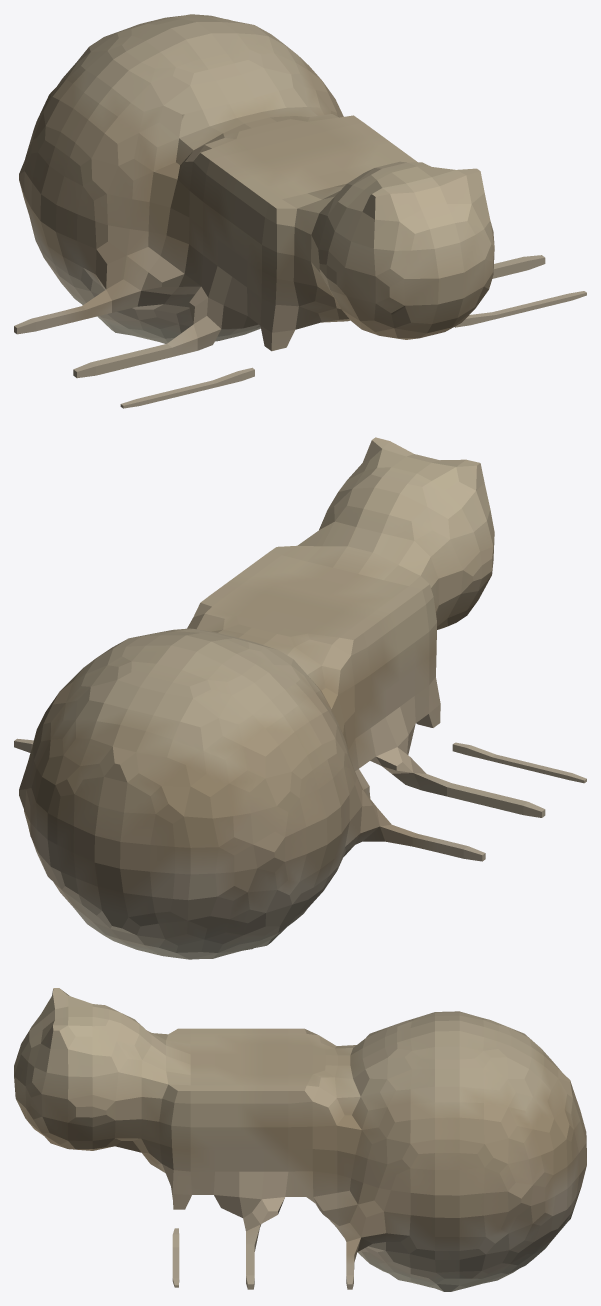
File: queenAnt.glb
3 views of the same model, one above another, from view 1: azimuth 30°, elevation 25°; view 2: azimuth 150°, elevation 25°; view 3: azimuth 270°, elevation 25° (orthographic). The views are drawn at different scales.
Parts seen in each view (by area): view 1: geometry_0; view 2: geometry_0; view 3: geometry_0.
Part boxes in pixels (x1=…): geometry_0: x1=14, y1=14, x2=586, y2=408; geometry_0: x1=14, y1=437, x2=586, y2=959; geometry_0: x1=14, y1=988, x2=586, y2=1291.
Size of the model in its own units: 1.3 by 0.8487 by 1.66.
1 material, 1 textured.
